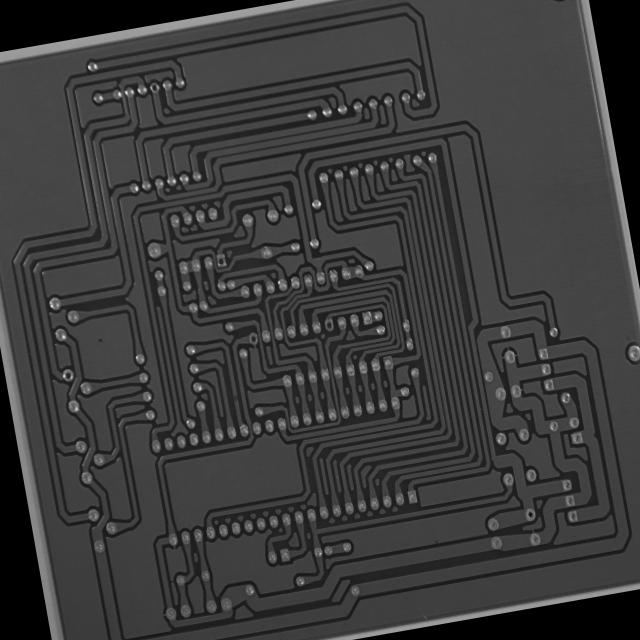missing_hole: (58, 364, 77, 384), (244, 328, 262, 348), (212, 250, 229, 270), (321, 315, 336, 332), (147, 78, 162, 95)
